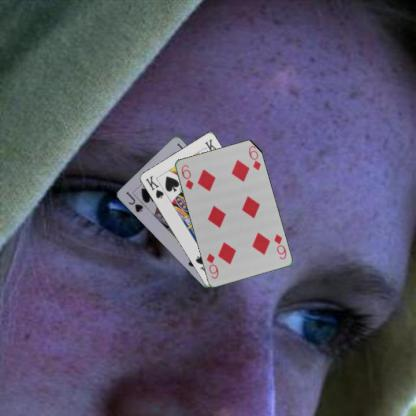6d: (271, 231, 287, 261), (178, 162, 194, 190)
Js: (123, 189, 149, 214)
Ks: (142, 173, 165, 199)
